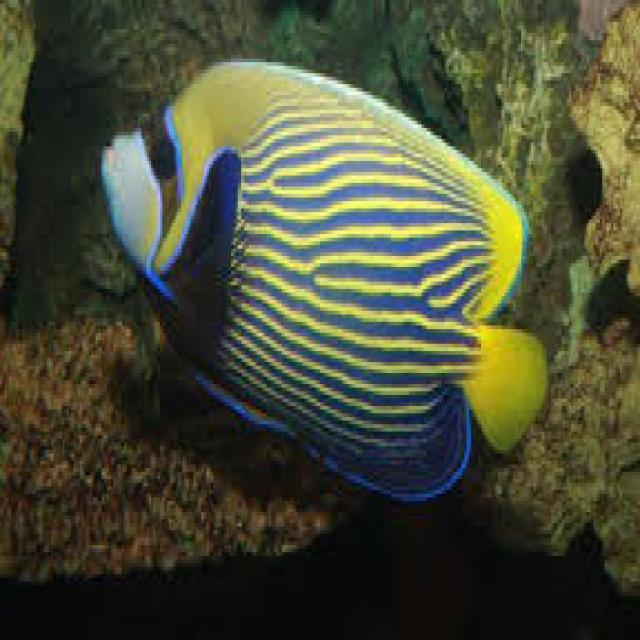AngelFish: (101, 56, 549, 502)
